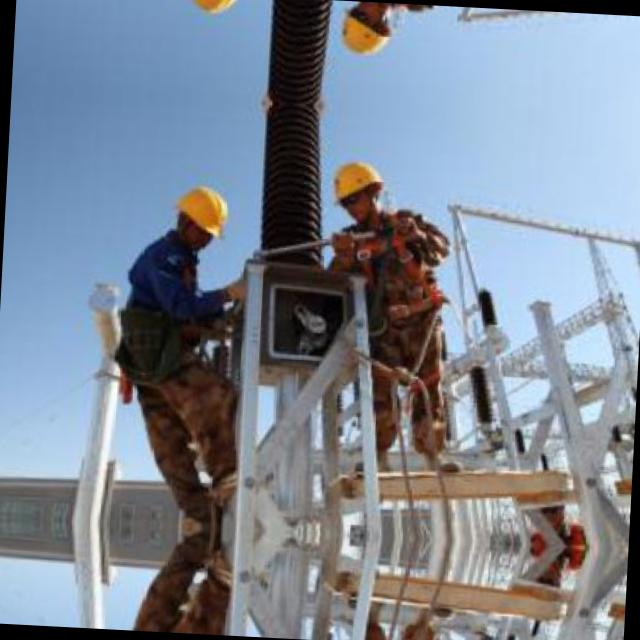helmet: (168, 179, 230, 251), (328, 154, 388, 226), (336, 1, 396, 64), (180, 0, 241, 21)
